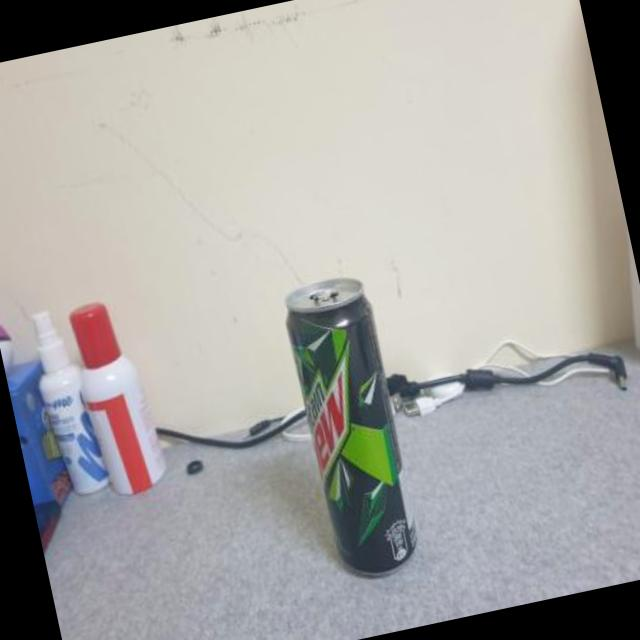metal: (282, 276, 411, 570)
